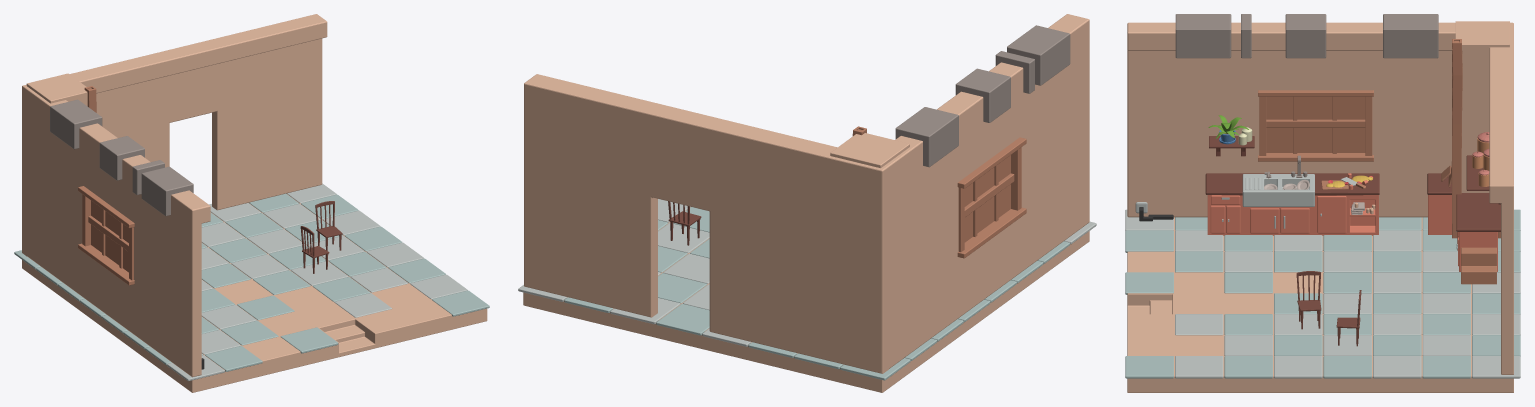
Rendered from Kitchen 1.fbx.
The picture shows the model from 3 angles, left to right: view 1: azimuth 30°, elevation 25°; view 2: azimuth 150°, elevation 25°; view 3: azimuth 270°, elevation 25°; orthographic projection. The views are drawn at different scales.
Parts seen in each view (by area): view 1: Kitchen, Glass; view 2: Kitchen, Glass; view 3: Kitchen, Glass.
Boxes of the visible parts, x1,y1,x2,y2 form: Kitchen: [14, 14, 489, 392]; Glass: [91, 200, 128, 272]; Kitchen: [518, 14, 1096, 392]; Glass: [964, 155, 1010, 242]; Kitchen: [1125, 14, 1520, 392]; Glass: [1266, 96, 1365, 152].
Size of the model in its own units: 615 by 369 by 613.
